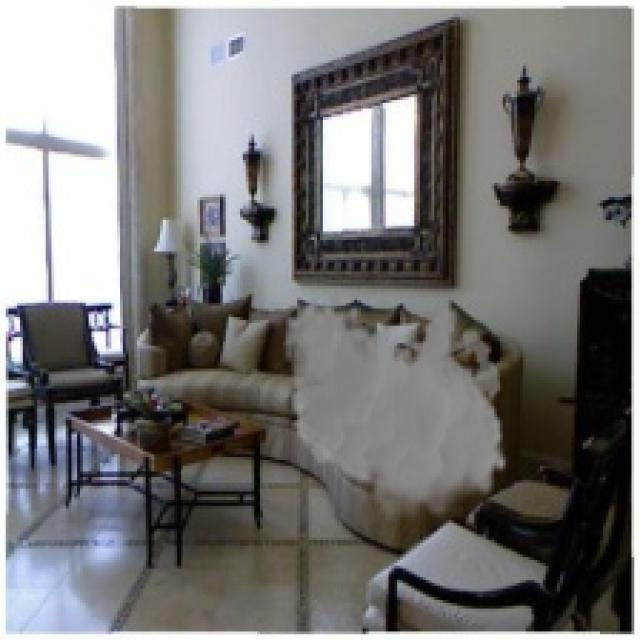smoke: (283, 292, 508, 528)
